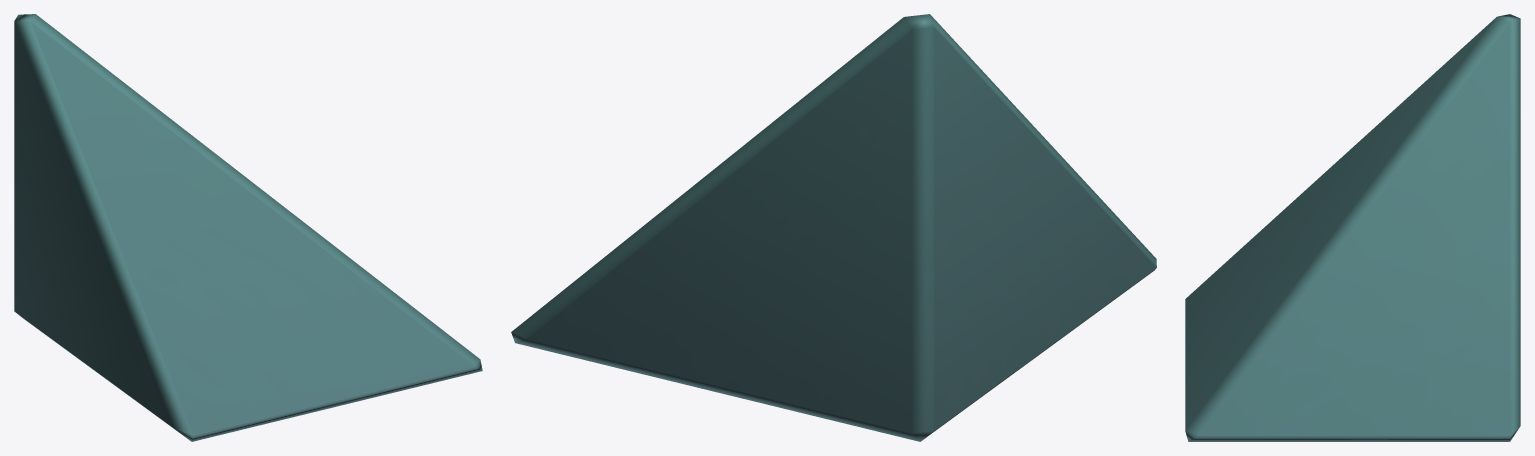
File: ramp_convex_hue_1.fbx
3 views of the same model, side by side, from view 1: azimuth 30°, elevation 25°; view 2: azimuth 150°, elevation 25°; view 3: azimuth 270°, elevation 25° (orthographic). The views are drawn at different scales.
Visible parts, largest first — view 1: ramp_convex_hue_1; view 2: ramp_convex_hue_1; view 3: ramp_convex_hue_1.
Boxes of the visible parts, x1,y1,x2,y2 form: ramp_convex_hue_1: (14, 14, 482, 441); ramp_convex_hue_1: (511, 14, 1156, 441); ramp_convex_hue_1: (1185, 14, 1520, 441).
Size of the model in its own units: 97.79 by 93.05 by 97.79.
